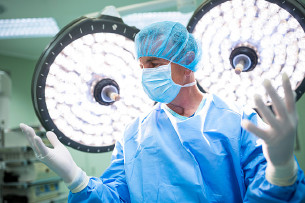face_mask: (140, 43, 187, 103)
